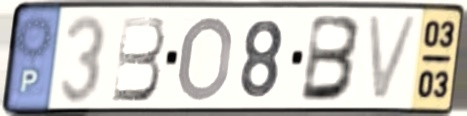3: (57, 9, 112, 109)
8: (239, 17, 285, 100)
B: (297, 13, 365, 105), (110, 13, 168, 105)
O: (174, 13, 236, 105)
V: (364, 11, 424, 105)
